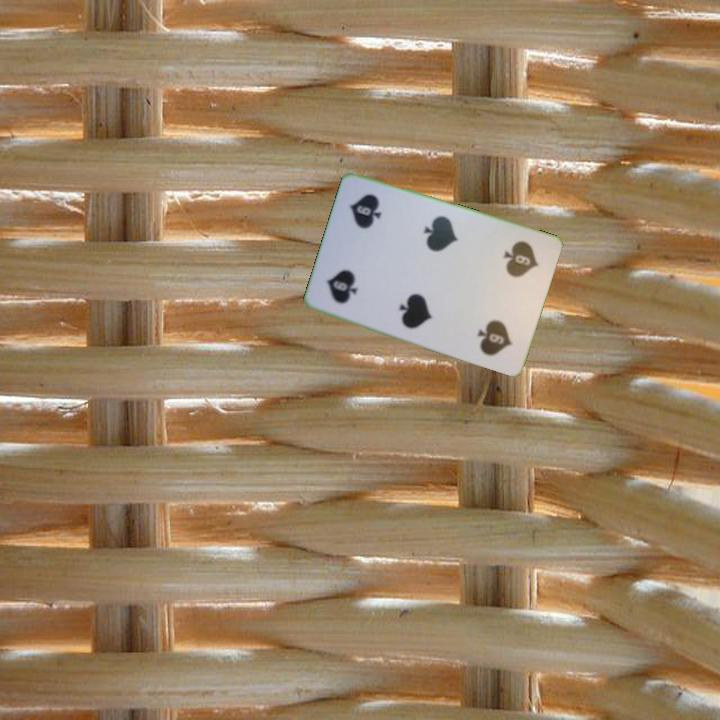s_6.png: (313, 239, 387, 319), (478, 228, 552, 308)
